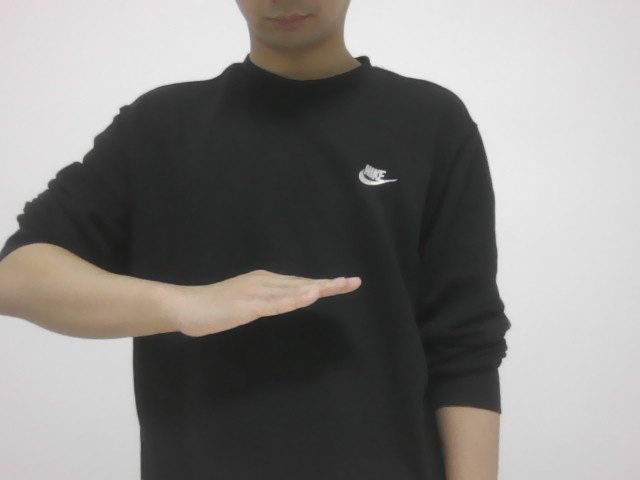safe: (143, 241, 372, 345)
